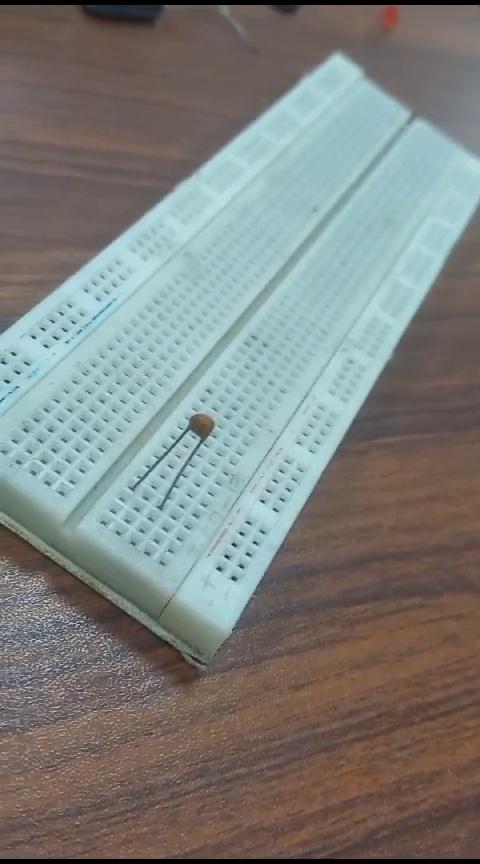ceramic capacitor: (142, 408, 226, 493)
